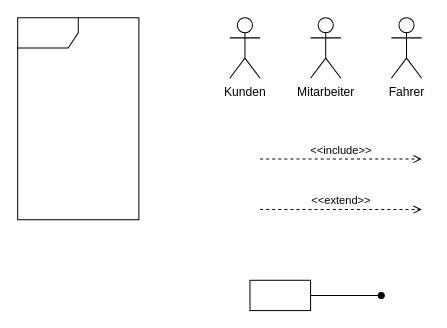
Image size: 447x328. Some labels were removed from this diagram. The shapes that lost their labels are listed below. From the top down, each one's centre as x and y in pixels, then its label:
At point (78, 118): "Pizzeria".
At point (280, 295): "Condition".
